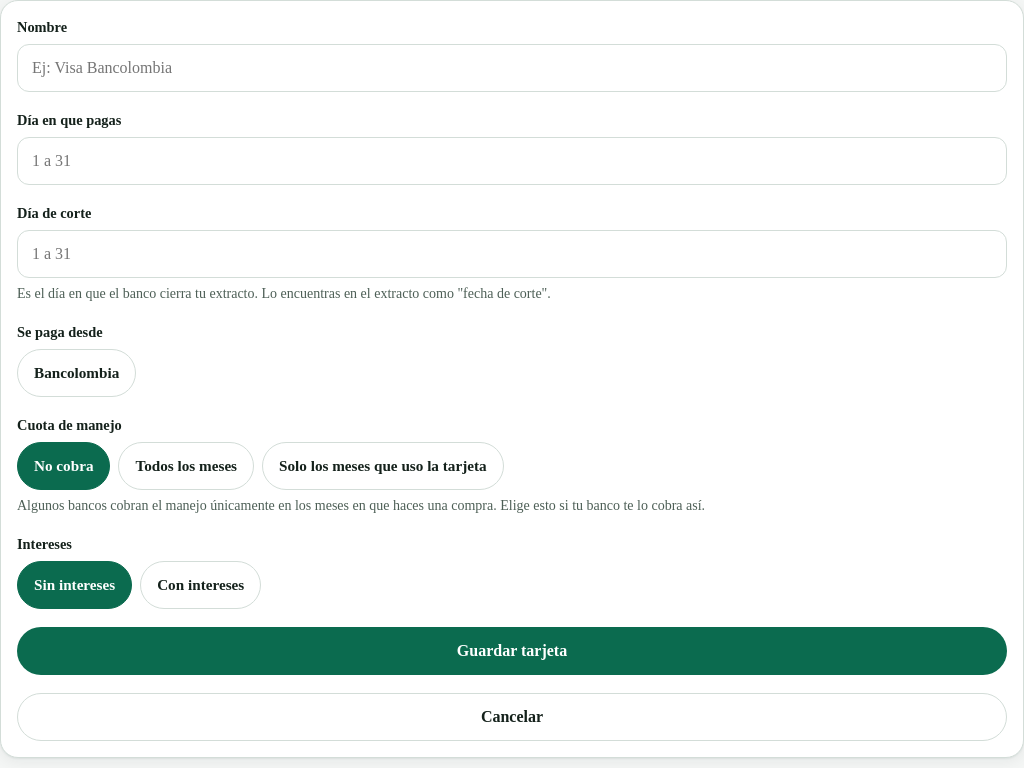
Scenario: CardForm: filtra el día de corte y confirma quitarlo › solo deja dígitos
Type "a5" into the field labelled "Día de corte" at (512, 254), box [17,230,1007,278]
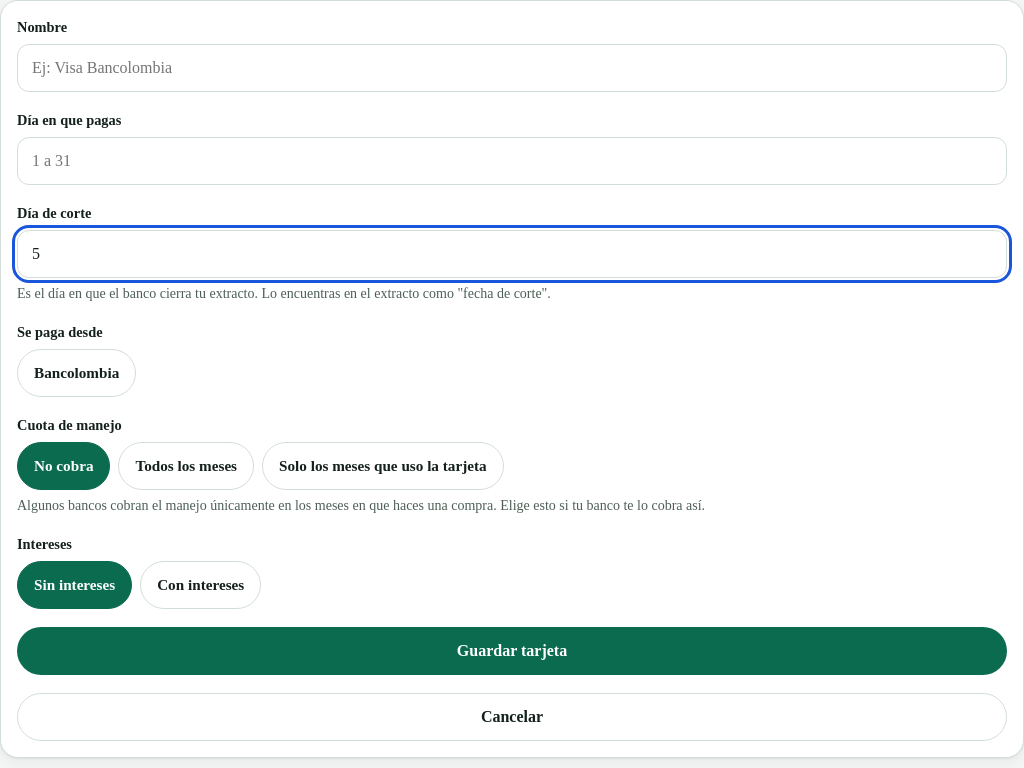
Expected: the field labelled "Día de corte" holds "5", [17,230,1007,278]
